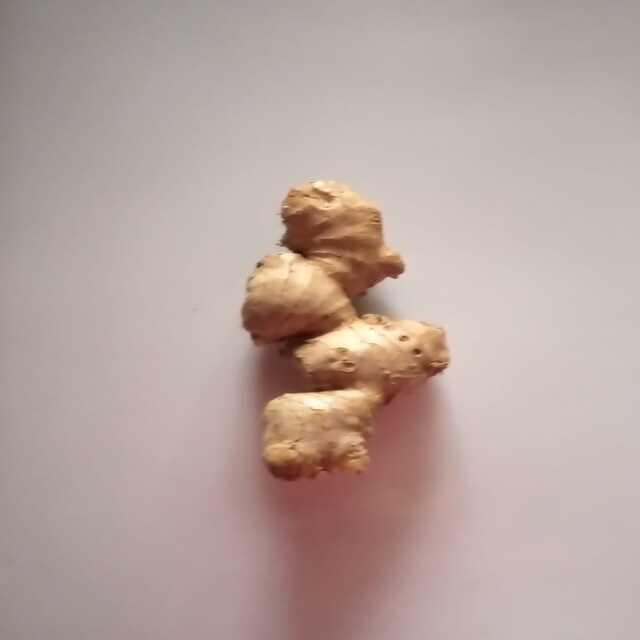ginger: (256, 186, 458, 487)
